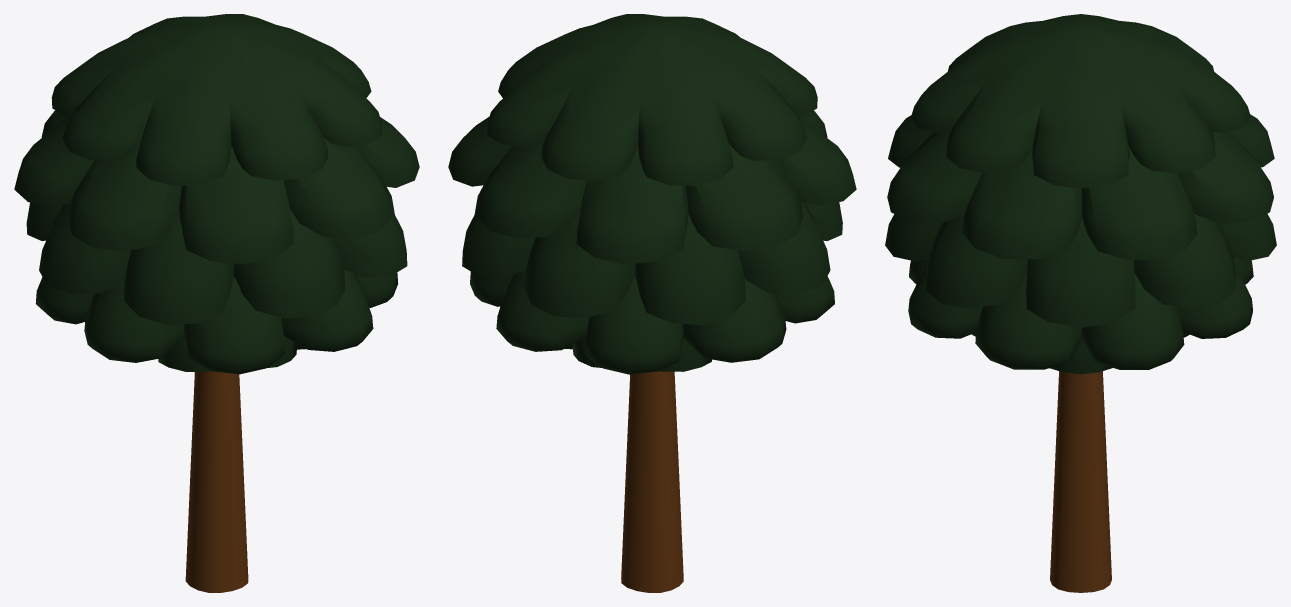
Rendered from coastal-tree.glb.
3 views of the same model, side by side, from view 1: azimuth 30°, elevation 25°; view 2: azimuth 150°, elevation 25°; view 3: azimuth 270°, elevation 25° (orthographic).
Visible parts, largest first — view 1: coastal-tree; view 2: coastal-tree; view 3: coastal-tree.
Part boxes in pixels (<box>): coastal-tree: <box>14,14,419,592</box>; coastal-tree: <box>448,14,856,592</box>; coastal-tree: <box>885,14,1276,592</box>.
Size of the model in its own units: 5.53 by 8.63 by 5.55.
1 material, 1 textured.
